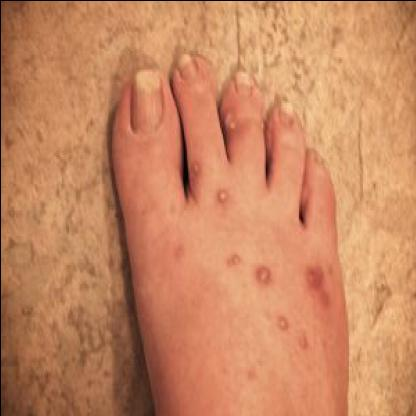Fire ant: (304, 262, 338, 306), (222, 108, 240, 133), (255, 264, 275, 283), (228, 248, 244, 266), (218, 185, 230, 206), (277, 314, 292, 330), (193, 156, 204, 174), (301, 333, 309, 345)
